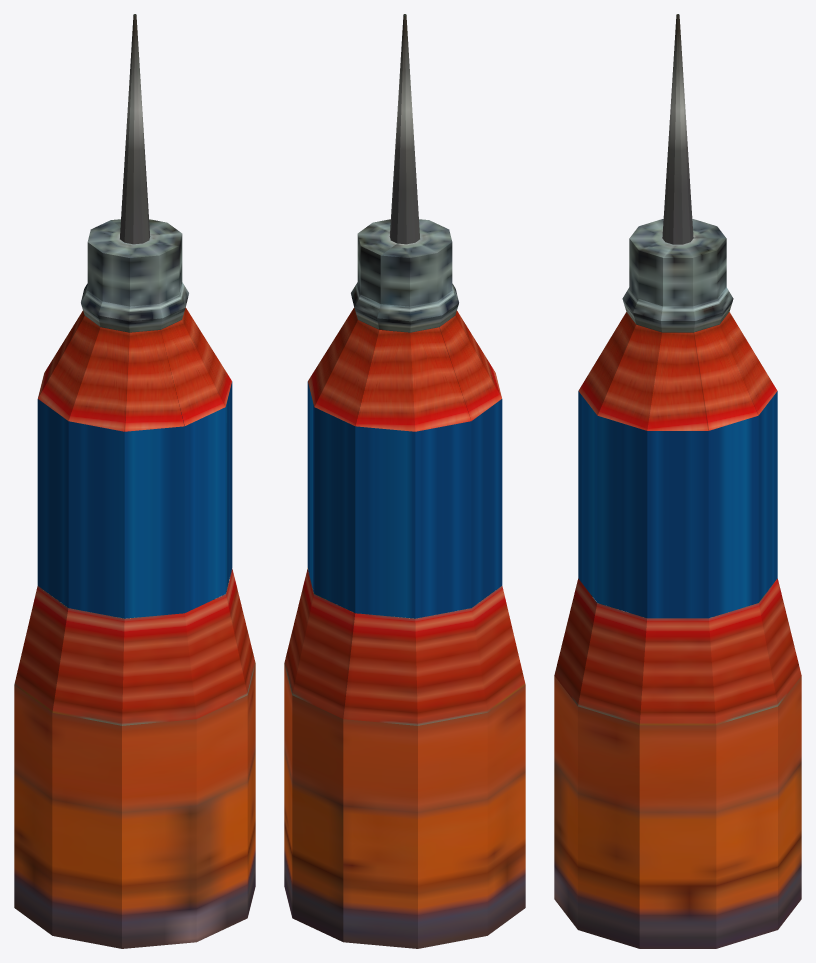
The model's file is buildingC.obj.
3 views of the same model, side by side, from view 1: azimuth 30°, elevation 25°; view 2: azimuth 150°, elevation 25°; view 3: azimuth 270°, elevation 25° (orthographic).
Visible parts, largest first — view 1: Cylinder; view 2: Cylinder; view 3: Cylinder.
Part boxes in pixels (x1,y1,x2,y2): Cylinder: (14,14,255,948); Cylinder: (284,14,525,948); Cylinder: (554,14,801,948).
Bounding box in the file's own units: 19.02 × 78.94 × 20.
Materials: 1 (1 with a texture image).
